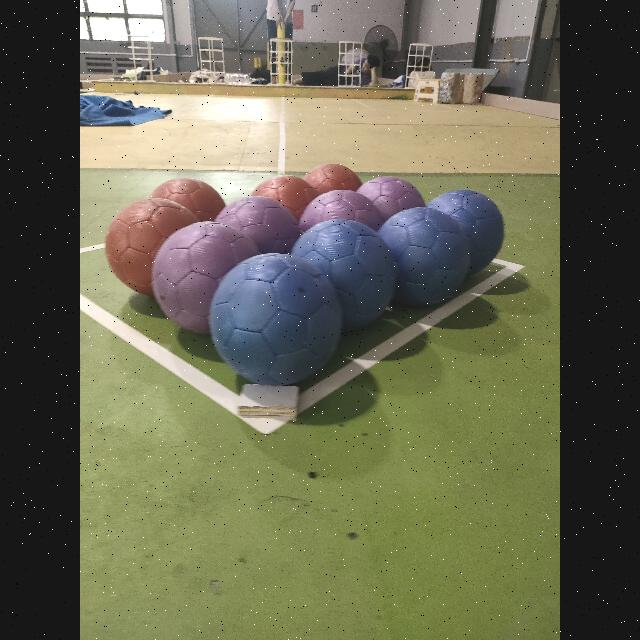B: (219, 254, 347, 380), (294, 220, 388, 326), (384, 205, 472, 301), (418, 189, 502, 279)
P: (157, 223, 261, 334), (215, 198, 292, 282), (300, 191, 382, 243)
R: (110, 204, 202, 300), (250, 178, 318, 220)
S: (264, 32, 298, 90), (333, 37, 367, 91), (409, 40, 441, 94), (195, 34, 228, 86), (132, 28, 152, 78)
